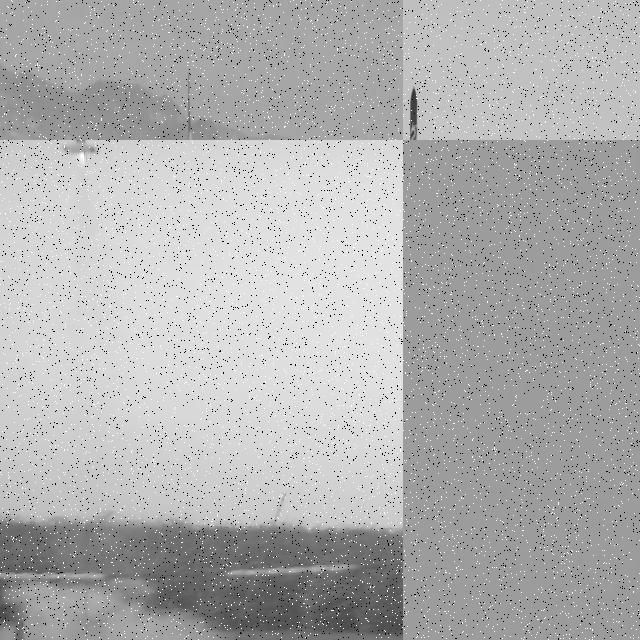Rocket: (403, 85, 423, 140), (61, 140, 98, 154), (185, 115, 193, 140)
